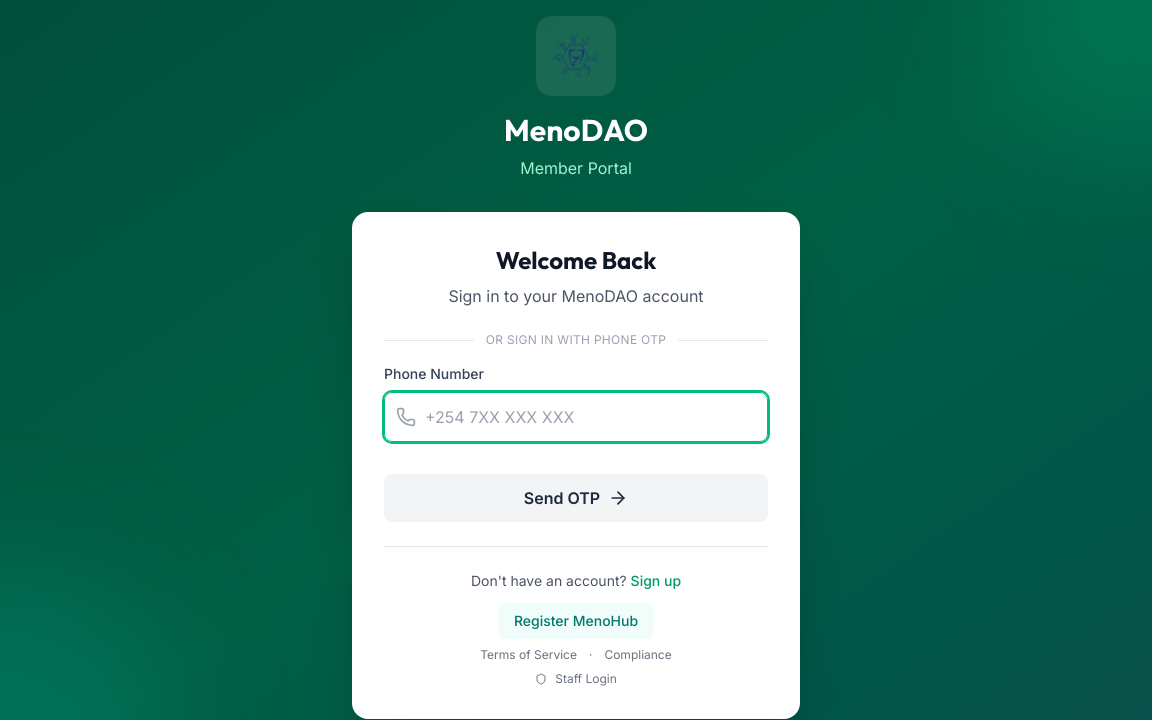
it: LoginPage › Loading States › shows loading spinner during phone check
Type "0712345678" into the field with placeholder "+254 7XX XXX XXX" at (576, 417), box left=384, top=392, right=768, bottom=442
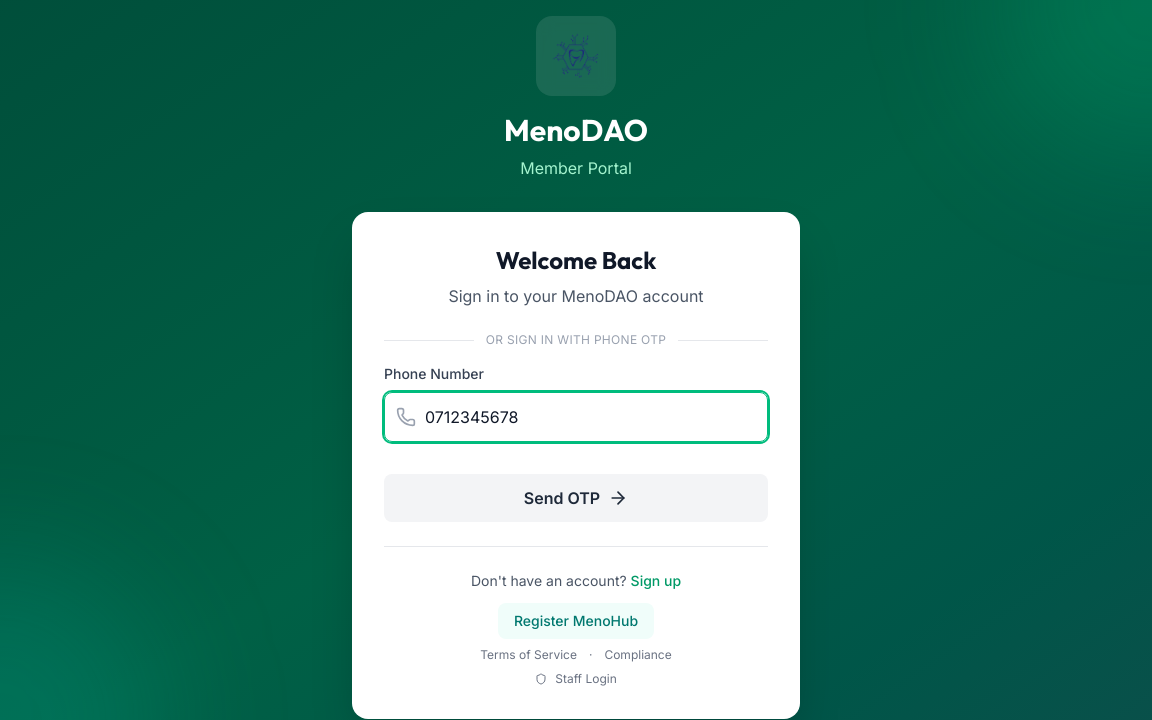
Click the button "Send OTP" at (576, 498), box left=384, top=474, right=768, bottom=522
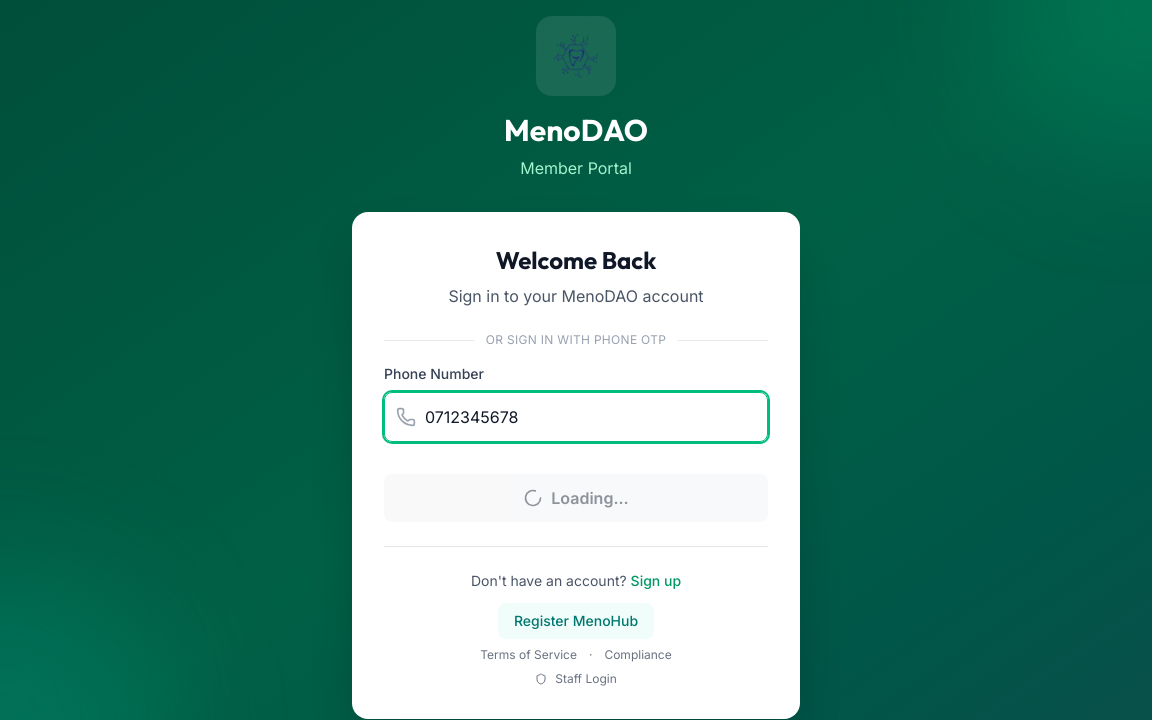
Now the button named "send otp" is disabled, box left=384, top=474, right=768, bottom=522
